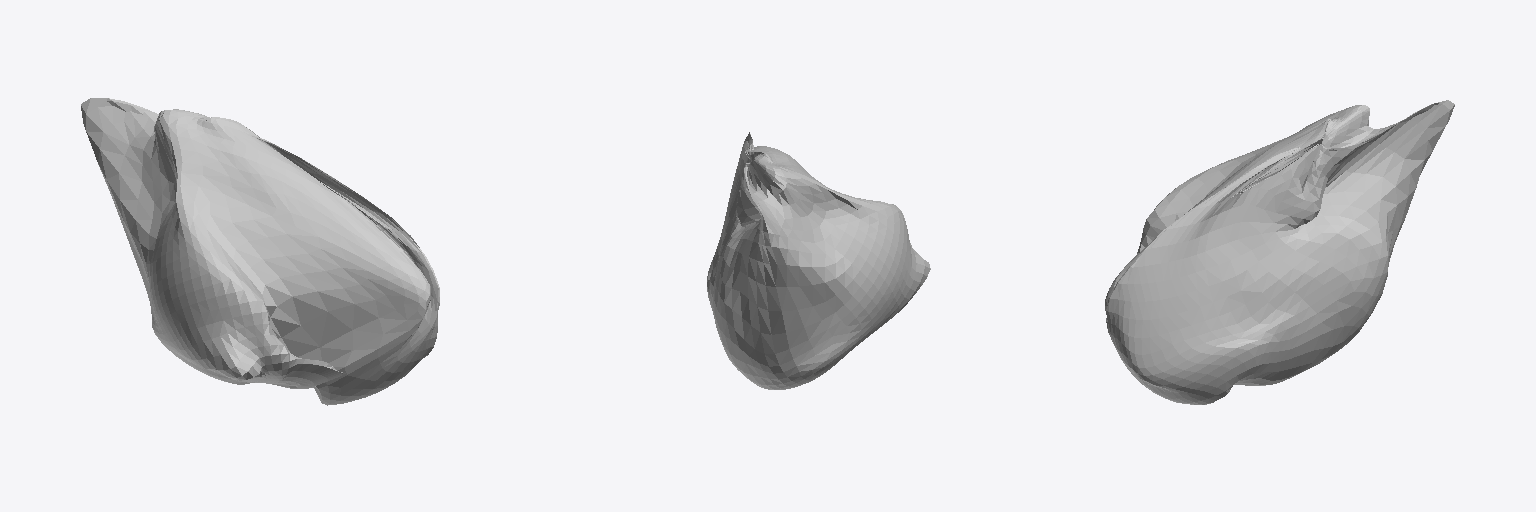
Rendered from meteorite.obj.
The picture shows the model from 3 angles: view 1: azimuth 30°, elevation 25°; view 2: azimuth 150°, elevation 25°; view 3: azimuth 270°, elevation 25°; orthographic projection.
Visible parts, largest first — view 1: Sphere_Material.001; view 2: Sphere_Material.001; view 3: Sphere_Material.001.
Boxes of the visible parts, x1,y1,x2,y2 form: Sphere_Material.001: [81, 98, 439, 405]; Sphere_Material.001: [707, 132, 930, 389]; Sphere_Material.001: [1105, 100, 1454, 404].
Bounding box in the file's own units: 2 × 2.26 × 2.82.